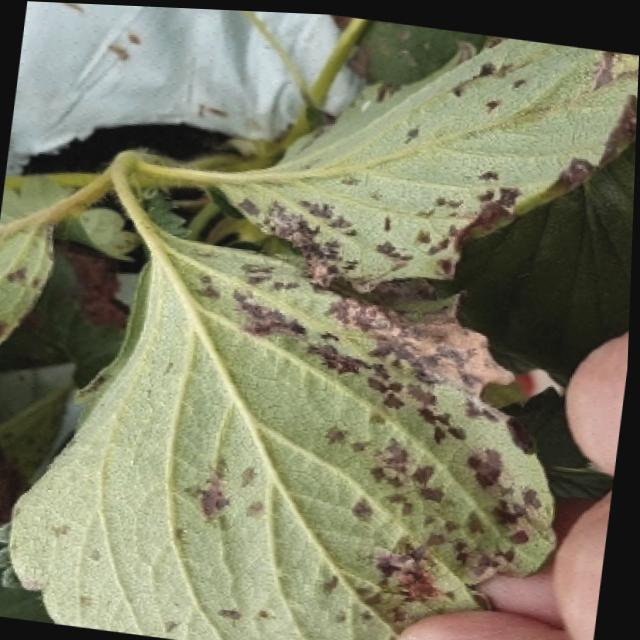Angular Leafspot: (11, 227, 564, 640), (209, 30, 639, 289), (0, 173, 97, 345)
